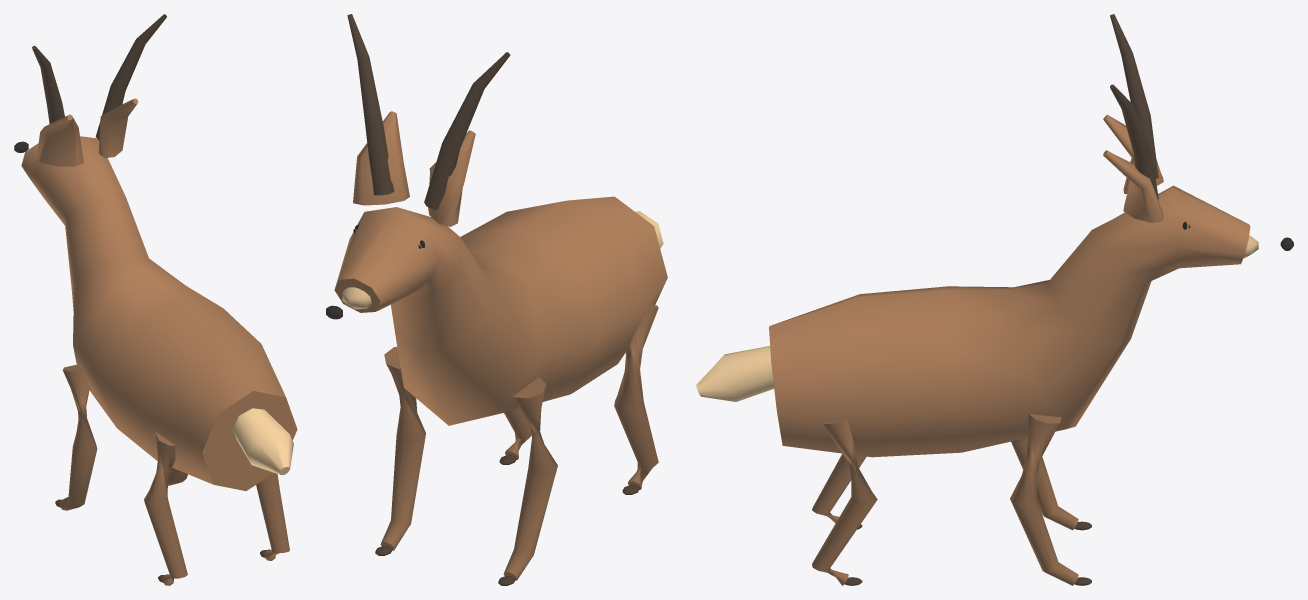
Rendered from deer_mobile.glb.
The picture shows the model from 3 angles, left to right: view 1: azimuth 30°, elevation 25°; view 2: azimuth 150°, elevation 25°; view 3: azimuth 270°, elevation 25°; orthographic projection. The views are drawn at different scales.
Visible parts, largest first — view 1: DeerOrganicBody, Leg_LH, Tail, Leg_LF, Ear, Leg_RH, AntlerBeam2, Ear2, AntlerBeam; view 2: DeerOrganicBody, Leg_LF, Leg_RF, Leg_LH, AntlerBeam2, AntlerBeam, Ear2, Ear, Leg_RH, Muzzle; view 3: DeerOrganicBody, Leg_RF, Leg_RH, Tail, Ear2, AntlerBeam, Leg_LF, AntlerBeam2, Leg_LH.
Boxes of the visible parts, left/top/right/bottom form: DeerOrganicBody: left=21, top=136, right=297, bottom=490; Leg_LH: left=144, top=432, right=187, bottom=585; Tail: left=232, top=408, right=293, bottom=475; Leg_LF: left=59, top=365, right=97, bottom=510; Ear: left=36, top=114, right=83, bottom=166; Leg_RH: left=256, top=473, right=289, bottom=560; AntlerBeam2: left=95, top=14, right=166, bottom=139; Ear2: left=98, top=98, right=138, bottom=158; AntlerBeam: left=32, top=45, right=64, bottom=123; DeerOrganicBody: left=334, top=196, right=667, bottom=425; Leg_LF: left=503, top=377, right=557, bottom=580; Leg_RF: left=380, top=346, right=425, bottom=550; Leg_LH: left=614, top=304, right=658, bottom=489; AntlerBeam2: left=347, top=14, right=394, bottom=195; AntlerBeam: left=424, top=52, right=510, bottom=209; Ear2: left=353, top=111, right=409, bottom=205; Ear: left=428, top=130, right=475, bottom=226; Leg_RH: left=504, top=409, right=531, bottom=459; Muzzle: left=342, top=287, right=371, bottom=309; DeerOrganicBody: left=769, top=185, right=1250, bottom=457; Leg_RF: left=1010, top=414, right=1078, bottom=585; Leg_RH: left=812, top=418, right=877, bottom=585; Tail: left=696, top=346, right=774, bottom=401; Ear2: left=1103, top=150, right=1163, bottom=222; AntlerBeam: left=1110, top=14, right=1158, bottom=178; Leg_LF: left=1011, top=438, right=1078, bottom=530; AntlerBeam2: left=1110, top=84, right=1158, bottom=200; Leg_LH: left=812, top=454, right=866, bottom=523.
Bounding box in the file's own units: 1.45 × 4.43 × 4.72.
